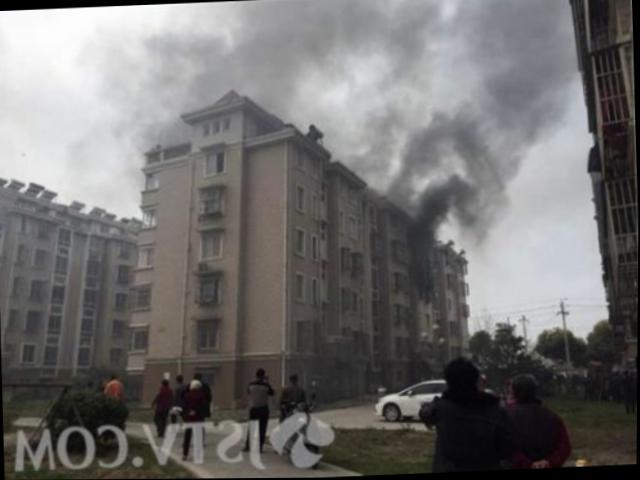smoke: (106, 0, 471, 102), (469, 0, 574, 141), (416, 141, 523, 234)
